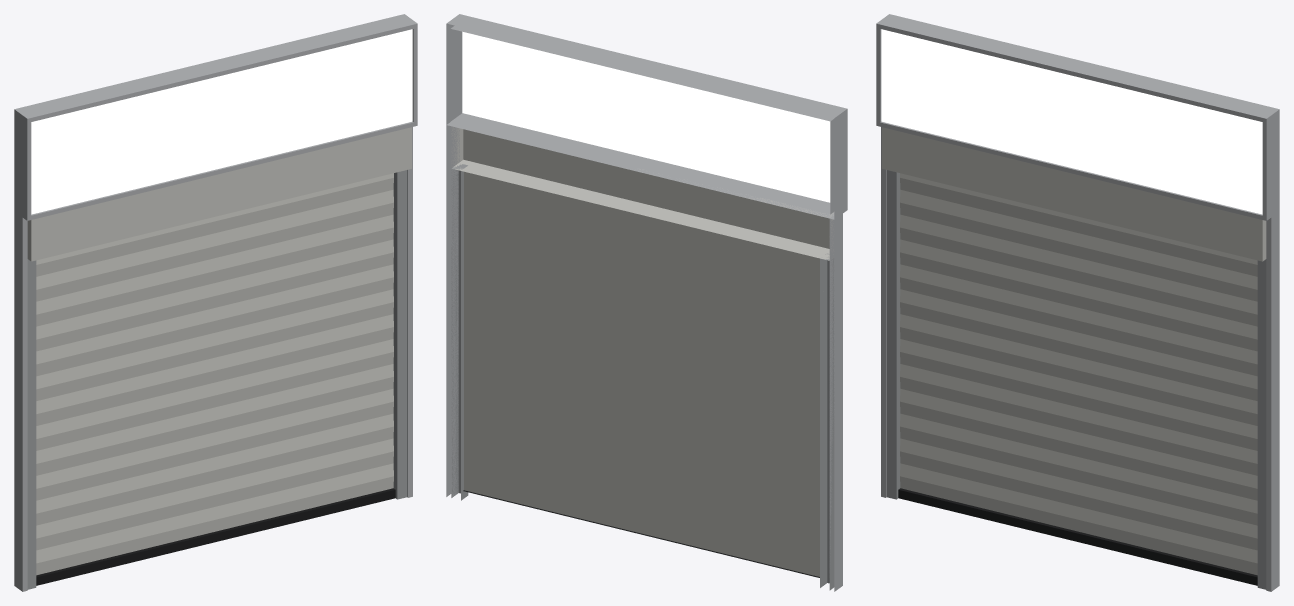
Rendered from gteki_shopfront_shutter_w2400_closed.glb.
3 views of the same model, side by side, from view 1: azimuth 30°, elevation 25°; view 2: azimuth 150°, elevation 25°; view 3: azimuth 330°, elevation 25° (orthographic).
Parts seen in each view (by area): view 1: VIS_body; view 2: VIS_body; view 3: VIS_body.
Part boxes in pixels (<box>): VIS_body: <box>14,14,417,591</box>; VIS_body: <box>446,14,847,591</box>; VIS_body: <box>876,14,1279,591</box>.
Bounding box in the file's own units: 2.4 × 2.8 × 0.14.
Materials: 2 (1 with a texture image).
